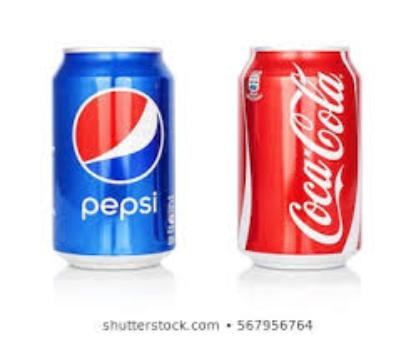Can: (236, 47, 362, 269), (53, 47, 176, 269)
